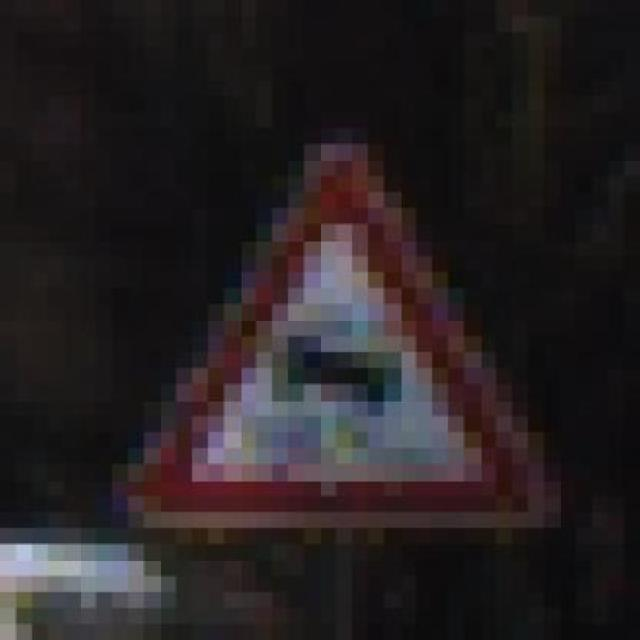Slippery Road Ahead: (117, 132, 565, 516)
